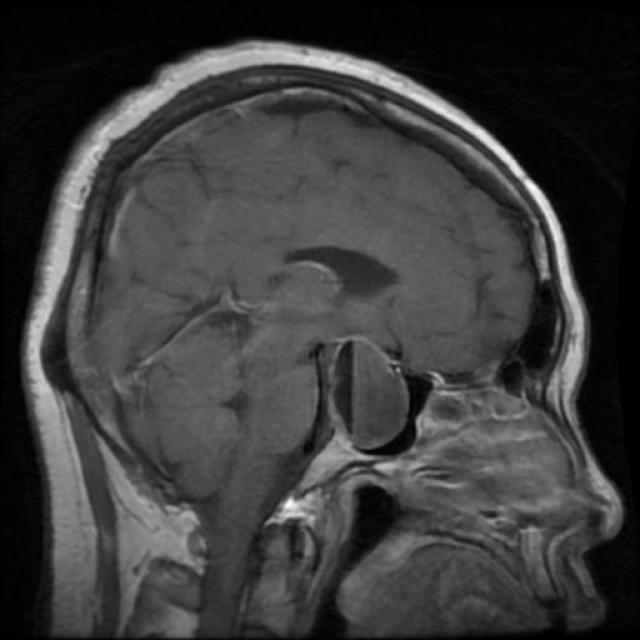pituitary: (328, 331, 413, 462)
